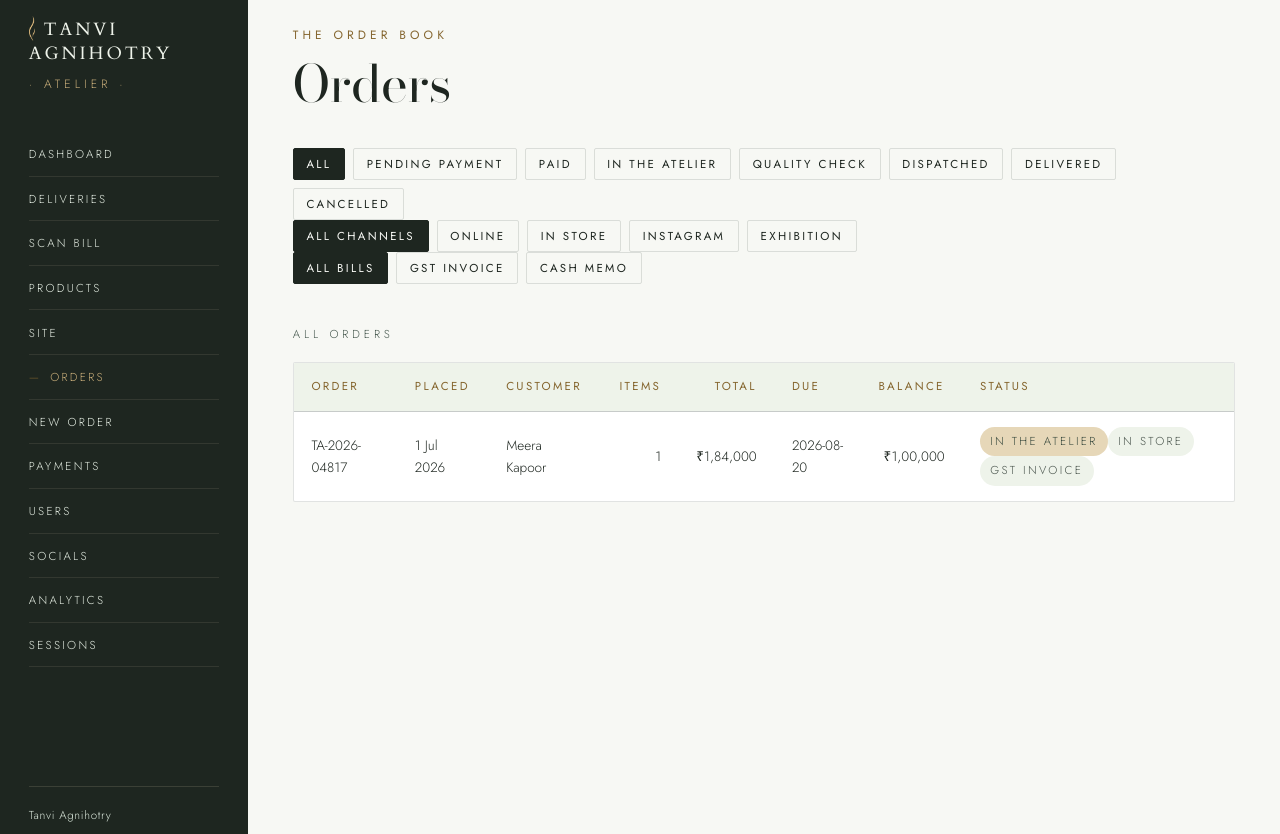
Test: Orders › shows offline badges, due date and balance; records a payment in paise
Expected: the text "In Store" is shown, [1108,427,1194,456]
Expected: the text "GST Invoice" is shown, [980,456,1094,486]
# expanded row: bill, notes, receipts, whatsapp link, tel link
Click the cell "TA-2026-04817" at x=346, y=456, box [294,411,397,501]
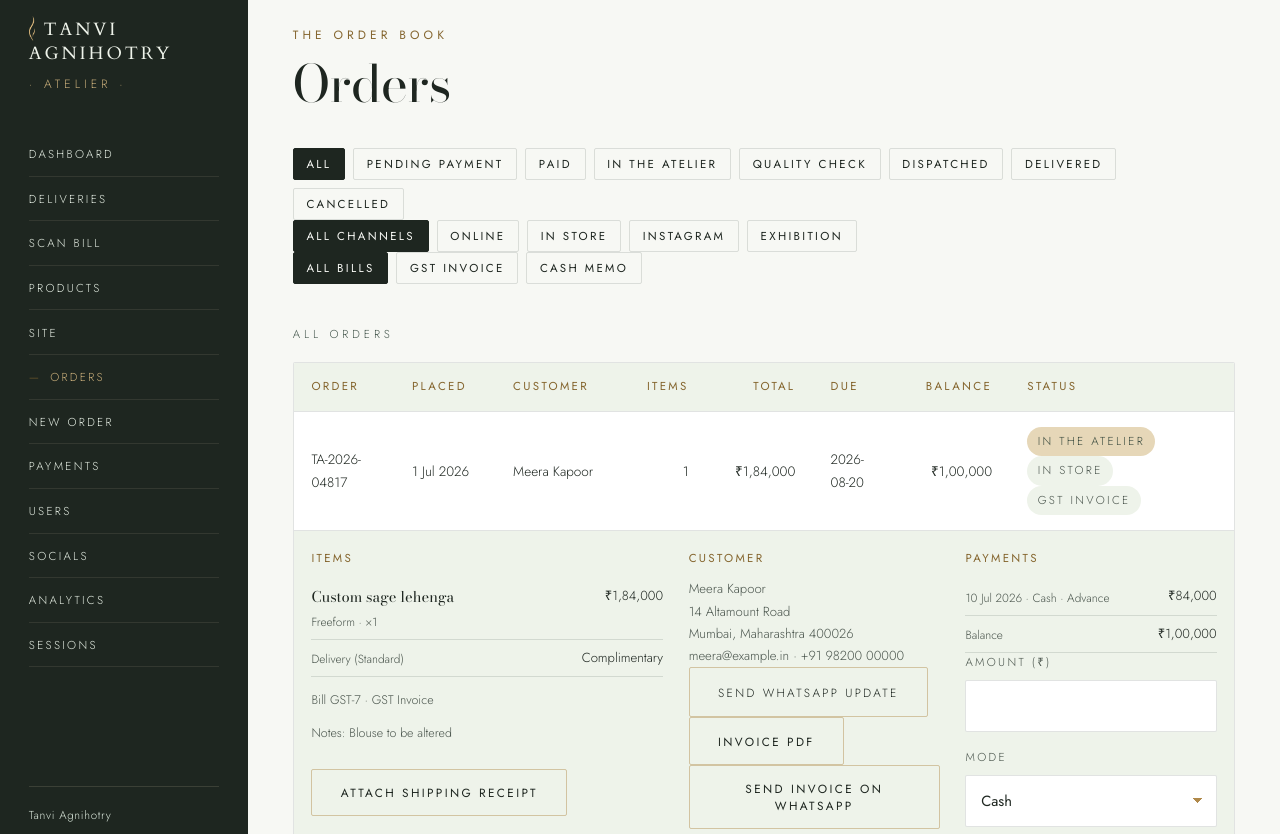
Expected: the text "Bill GST-7 · GST Invoice" is shown, [311,690,434,708]
Expected: the text "Notes: Blouse to be altered" is shown, [311,724,452,742]
Expected: the text "10 Jul 2026 · Cash · Advance" is shown, [965,588,1110,607]
# record a payment — rupees in, paise out
Type "100000" into the number field labelled "Amount (₹)" at x=1091, y=706, box [965,680,1217,732]
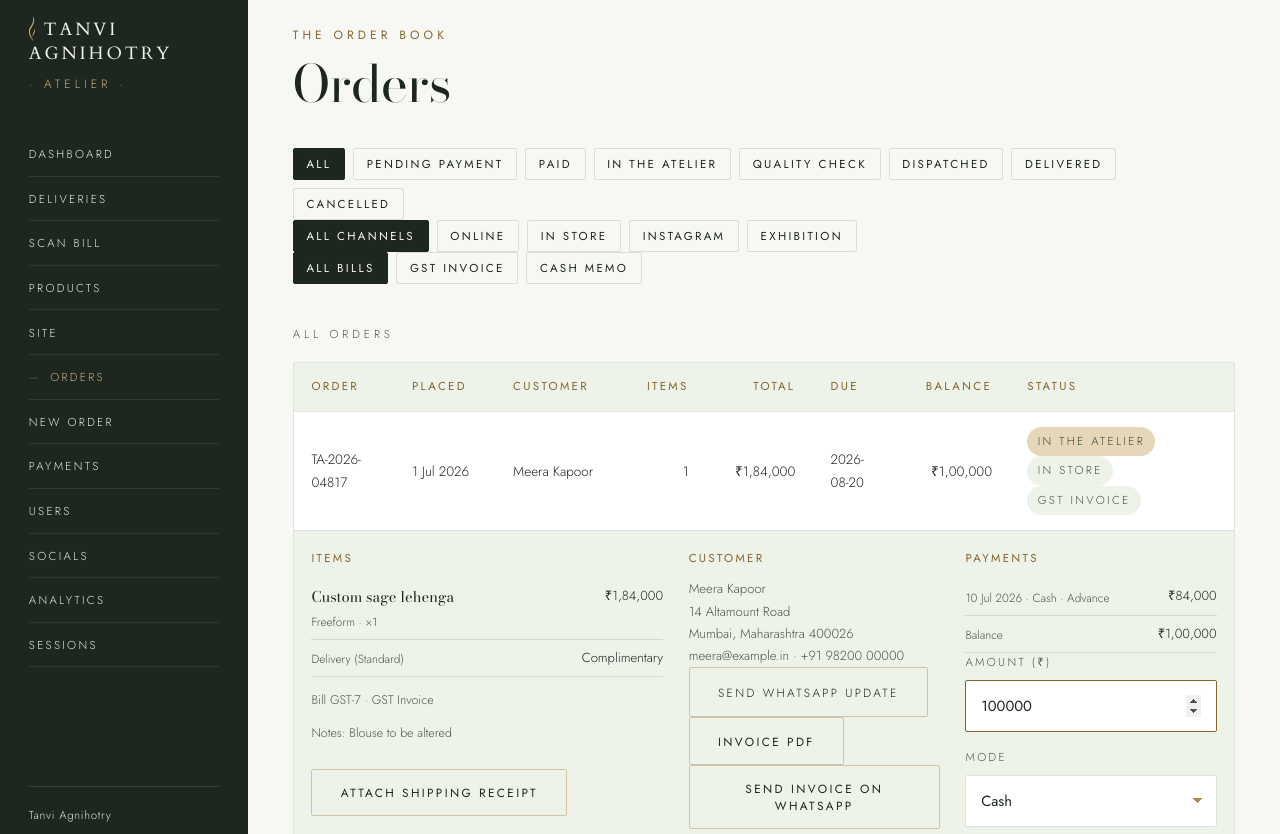
Select "Online" in the dropdown labelled "Mode" at x=1091, y=801, box [965,775,1217,827]
(page scrolled)
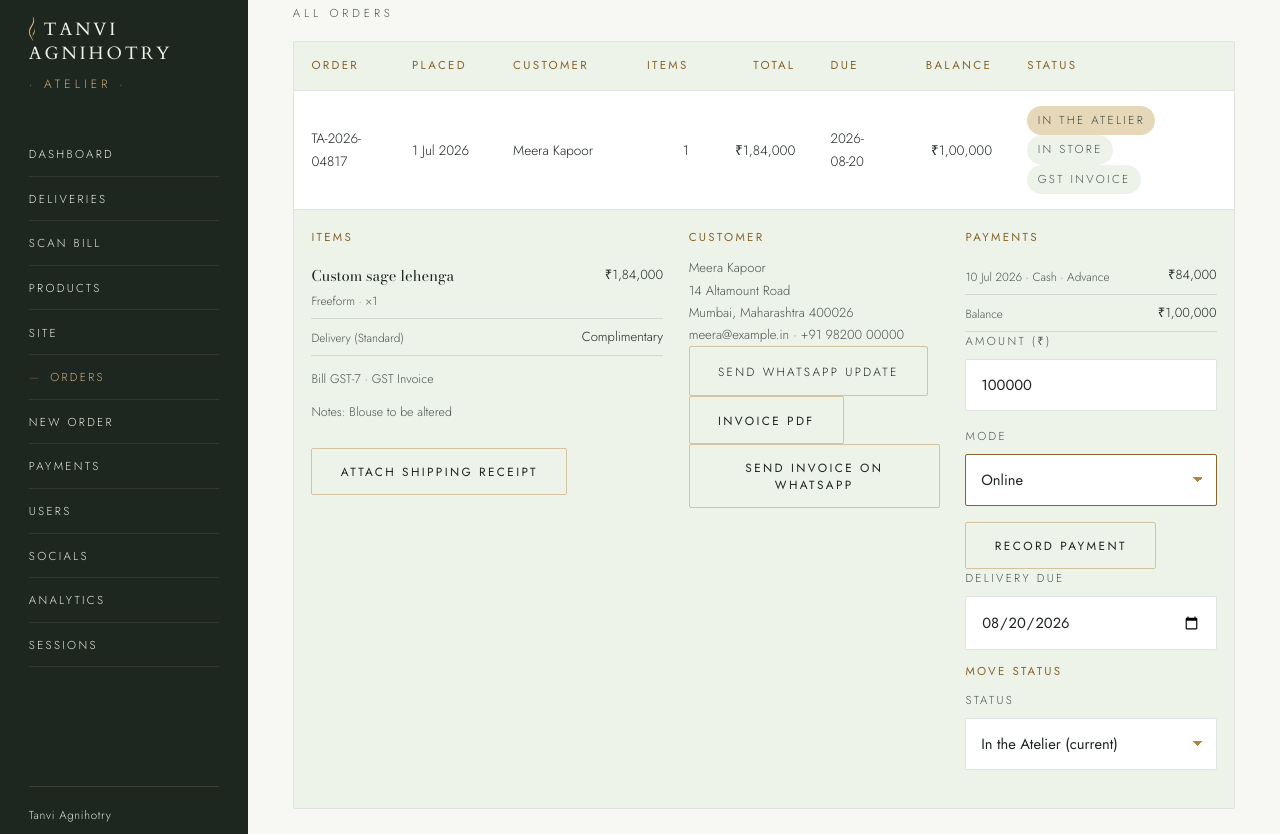
Click the button "Record payment" at x=1061, y=545, box [965,522,1156,569]
(page scrolled)
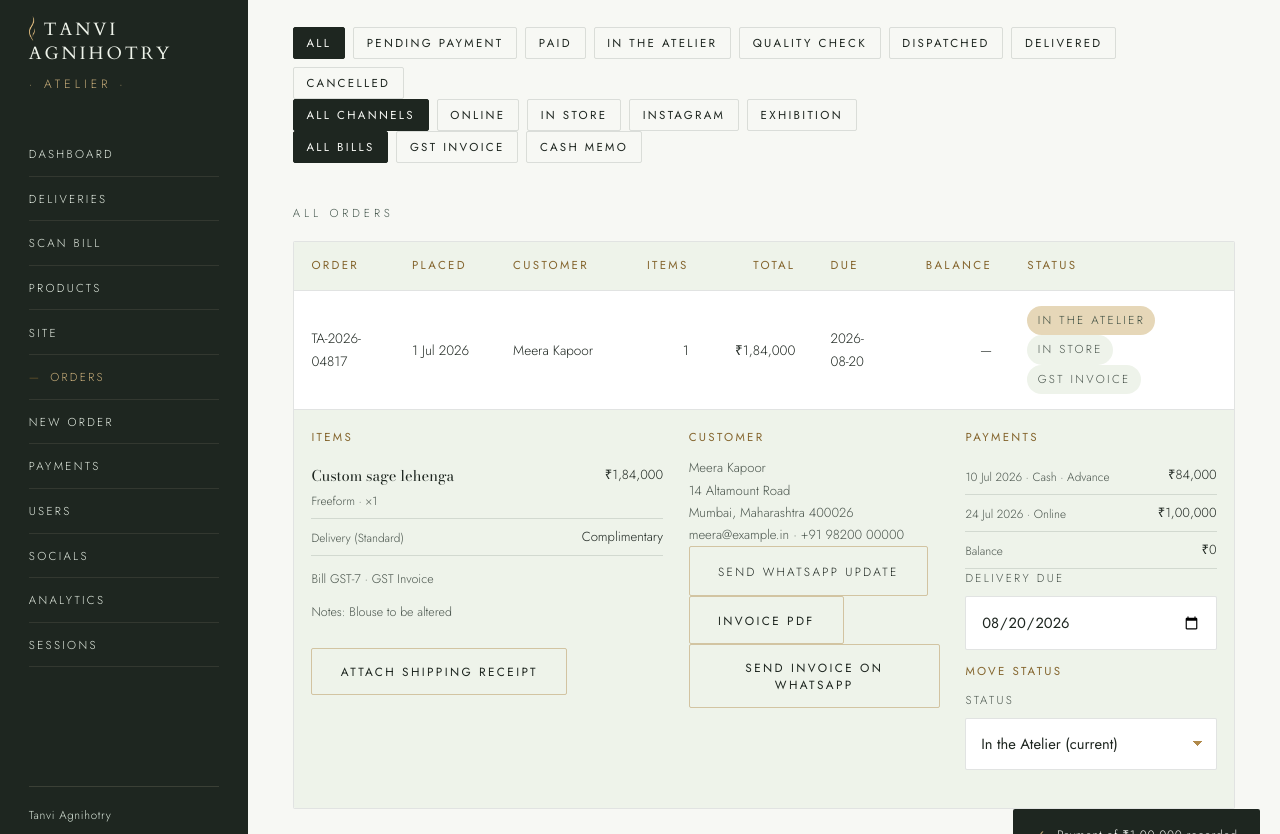
Expected: the text "—" is shown, [896,290,1010,410]
